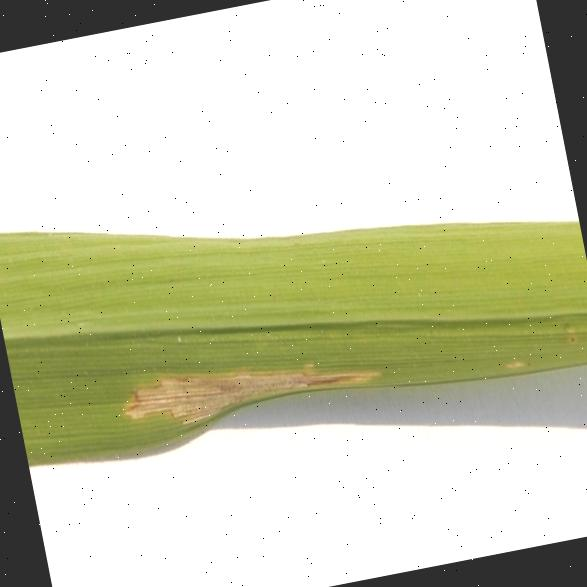Bacteria_Leaf_Blight: (105, 284, 402, 474)
